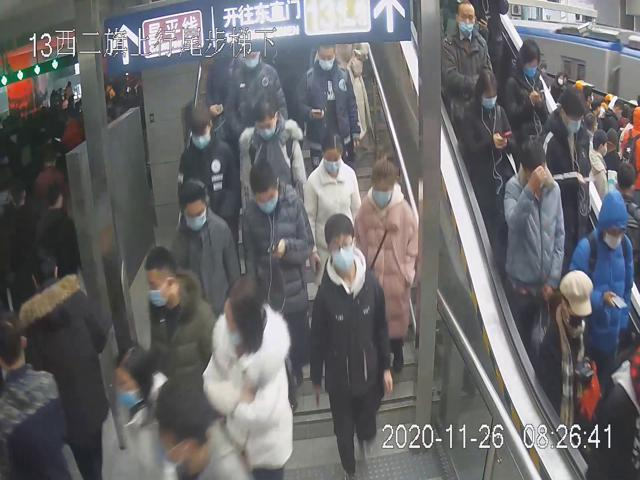person: (309, 211, 395, 480), (199, 271, 295, 480), (238, 159, 315, 387), (351, 150, 422, 387), (140, 240, 220, 383), (171, 98, 239, 247), (167, 177, 244, 307), (237, 85, 308, 212), (295, 40, 361, 174), (303, 128, 366, 267), (463, 68, 514, 220), (440, 0, 495, 126)
